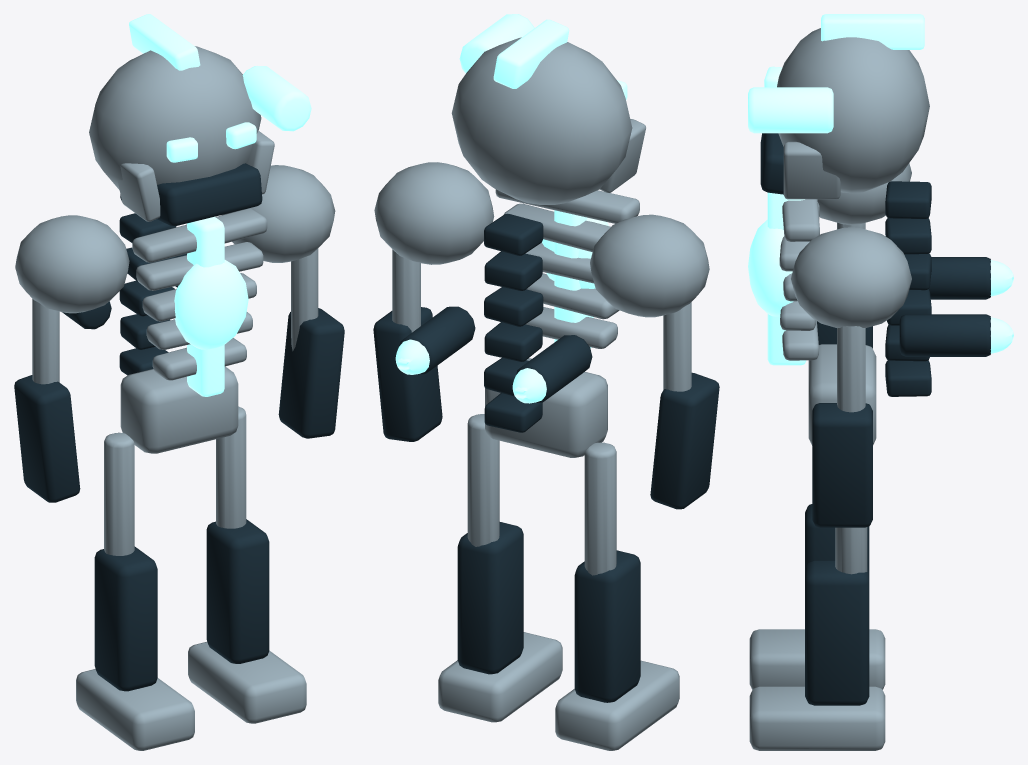
The model's file is Sentinel_CryoRevenant_Armor.fbx.
3 renders of one model, left to right at view 1: azimuth 30°, elevation 25°; view 2: azimuth 150°, elevation 25°; view 3: azimuth 270°, elevation 25°, orthographic. The views are drawn at different scales.
Parts seen in each view (by area): view 1: Skull.001, Scapula_L.001, ShinBlade_R.001, ShinBlade_L.001, Pelvis.001, ForearmBlade_R.001, ForearmBlade_L.001, Talon_R.001, Talon_L.001, Scapula_R.001, FrozenHeart.001, Jaw.001 (+21 smaller); view 2: Skull.001, Scapula_L.001, Scapula_R.001, ShinBlade_L.001, ShinBlade_R.001, ForearmBlade_L.001, Talon_R.001, Talon_L.001, Pelvis.001, ForearmBlade_R.001, Femur_L.001, Femur_R.001 (+21 smaller); view 3: Skull.001, Scapula_R.001, ShinBlade_R.001, Talon_R.001, ForearmBlade_R.001, Talon_L.001, Rangefinder, SoulJet_1.001, CranialSpine.001, FrozenHeart.001, CheekBlade_1.001, SoulJet_-1.001 (+20 smaller).
Boxes of the visible parts, <box> form: Skull.001: <box>89,46,261,189</box>; Scapula_L.001: <box>15,215,129,313</box>; ShinBlade_R.001: <box>206,519,269,663</box>; ShinBlade_L.001: <box>94,546,157,691</box>; Pelvis.001: <box>120,366,238,453</box>; ForearmBlade_R.001: <box>278,308,344,438</box>; ForearmBlade_L.001: <box>14,375,80,502</box>; Talon_R.001: <box>188,642,306,723</box>; Talon_L.001: <box>76,669,194,750</box>; Scapula_R.001: <box>221,165,335,262</box>; FrozenHeart.001: <box>174,260,248,349</box>; Jaw.001: <box>157,163,262,226</box>; Skull.001: <box>451,37,632,204</box>; Scapula_L.001: <box>590,214,709,317</box>; Scapula_R.001: <box>374,162,494,264</box>; ShinBlade_L.001: <box>574,550,640,702</box>; ShinBlade_R.001: <box>457,522,523,674</box>; ForearmBlade_L.001: <box>650,372,719,509</box>; Talon_R.001: <box>438,632,562,722</box>; Talon_L.001: <box>555,660,679,750</box>; Pelvis.001: <box>485,358,607,457</box>; ForearmBlade_R.001: <box>373,307,442,441</box>; Femur_L.001: <box>584,442,616,575</box>; Femur_R.001: <box>467,414,499,546</box>; Skull.001: <box>777,28,929,193</box>; Scapula_R.001: <box>791,227,911,328</box>; ShinBlade_R.001: <box>805,560,869,705</box>; Talon_R.001: <box>749,686,885,750</box>; ForearmBlade_R.001: <box>812,403,872,527</box>; Talon_L.001: <box>749,629,885,689</box>; Rangefinder: <box>748,87,833,133</box>; SoulJet_1.001: <box>899,314,990,356</box>; CranialSpine.001: <box>821,14,924,49</box>; FrozenHeart.001: <box>748,219,793,316</box>; CheekBlade_1.001: <box>783,141,840,199</box>; SoulJet_-1.001: <box>928,257,990,299</box>.
Bounding box in the file's own units: 209 × 429 × 149.
